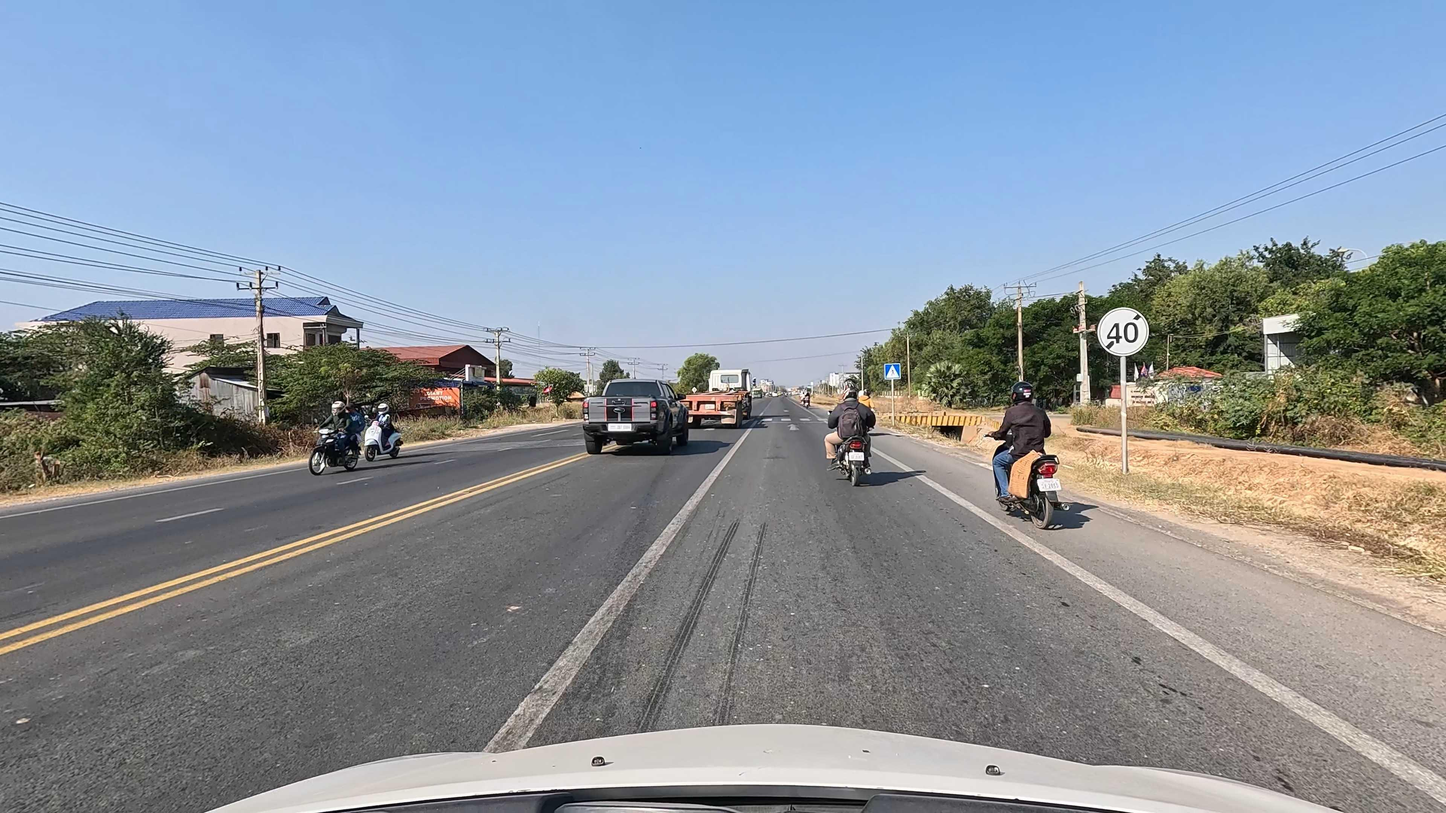end_speed_limit_40: (1095, 306, 1149, 355)
pedestrian_crossing: (883, 363, 903, 381)
